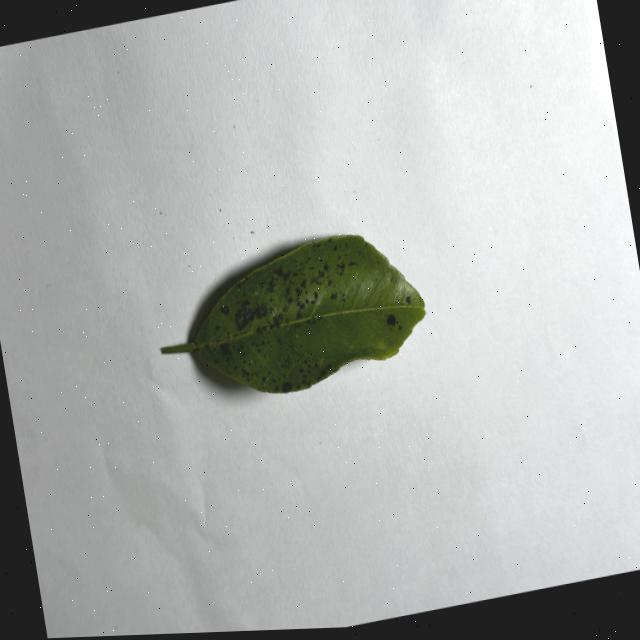sooty_mold: (161, 236, 424, 393)
